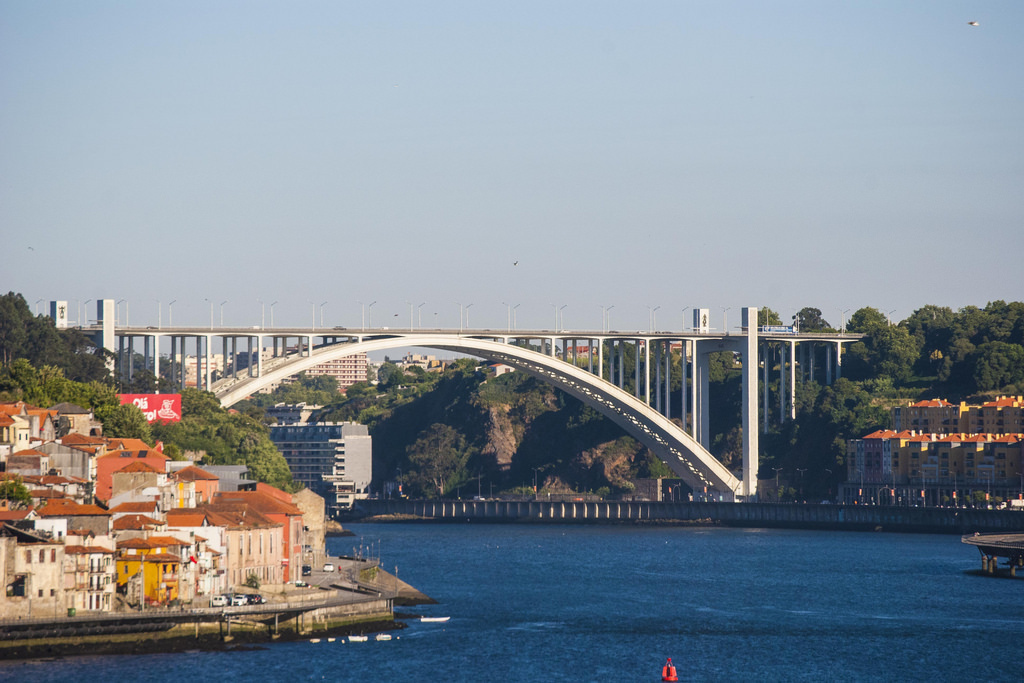arrabida: (0, 298, 866, 501)
